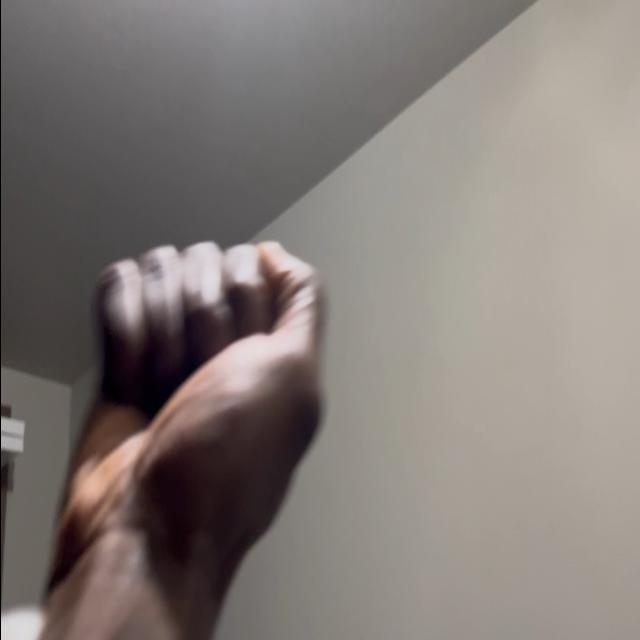Rock: (42, 241, 330, 640)
